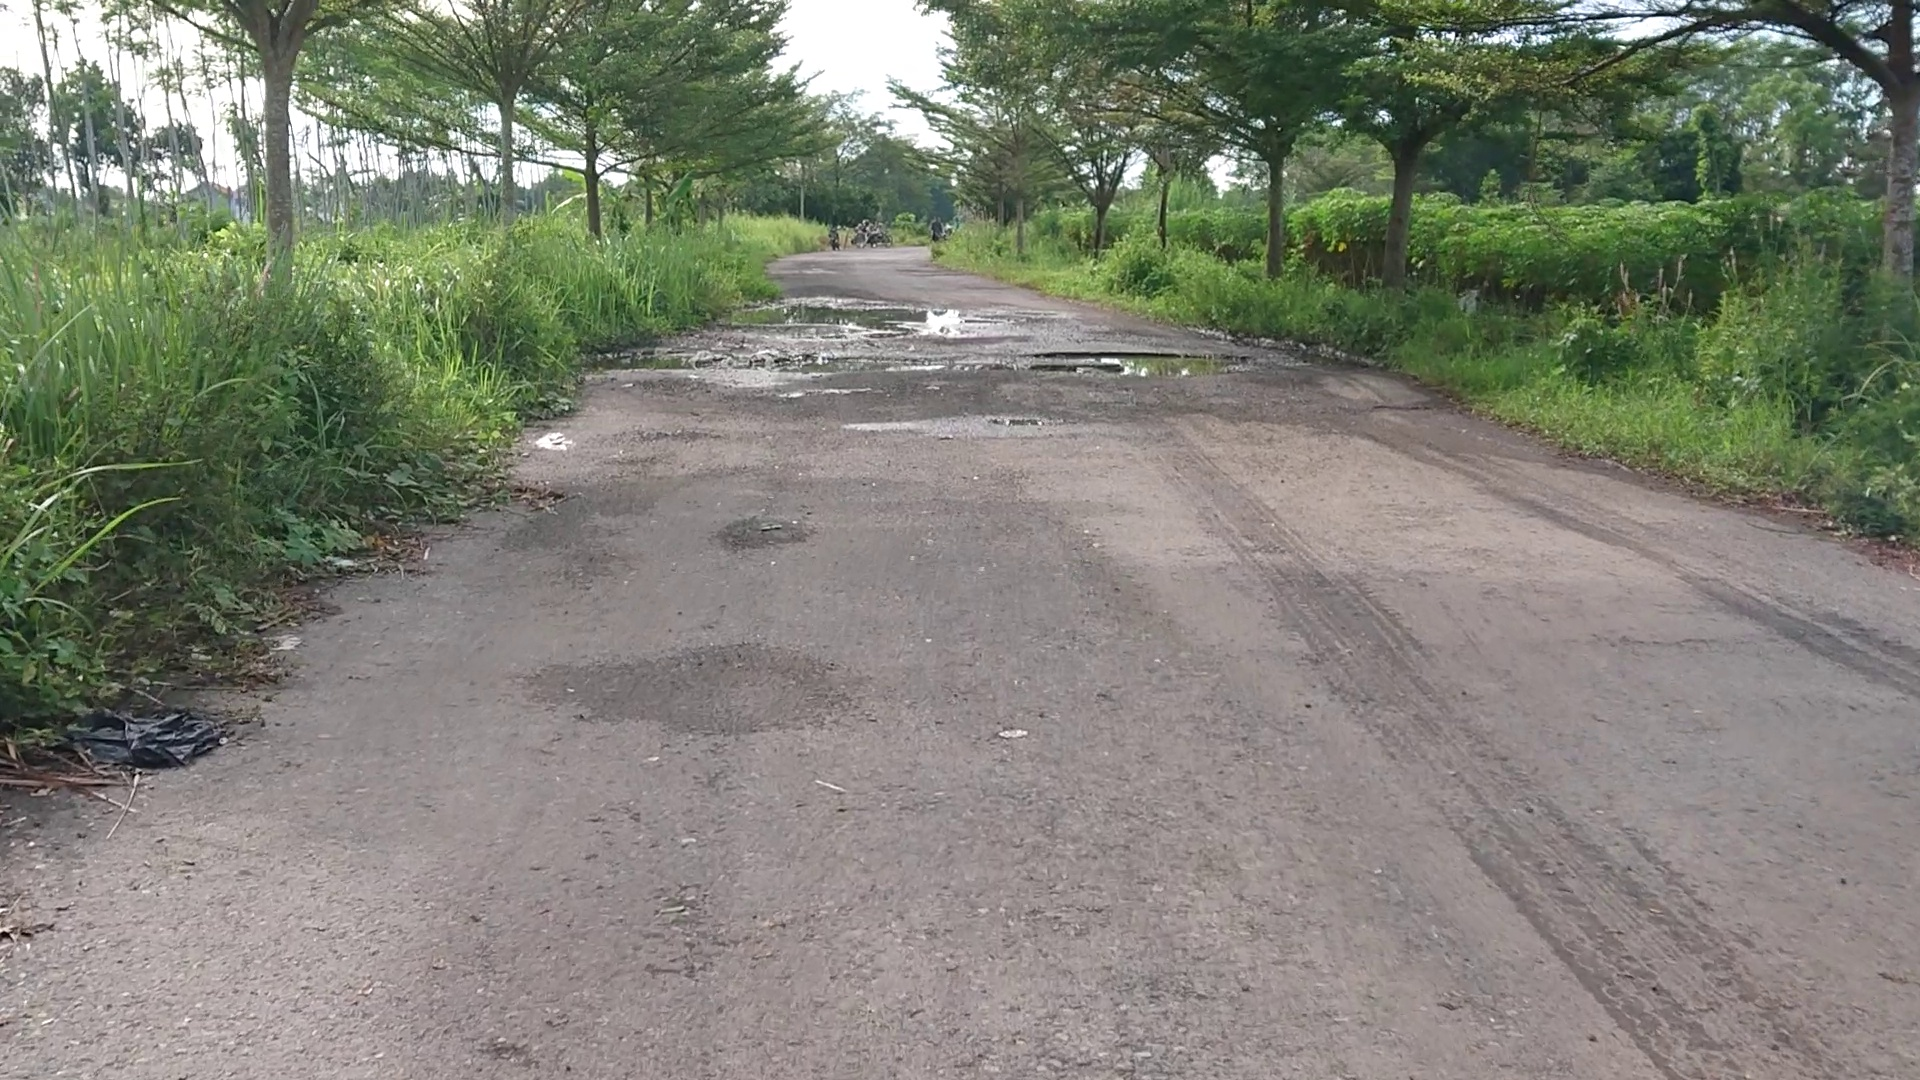Berlubang: (727, 291, 982, 343), (1021, 334, 1250, 378)
